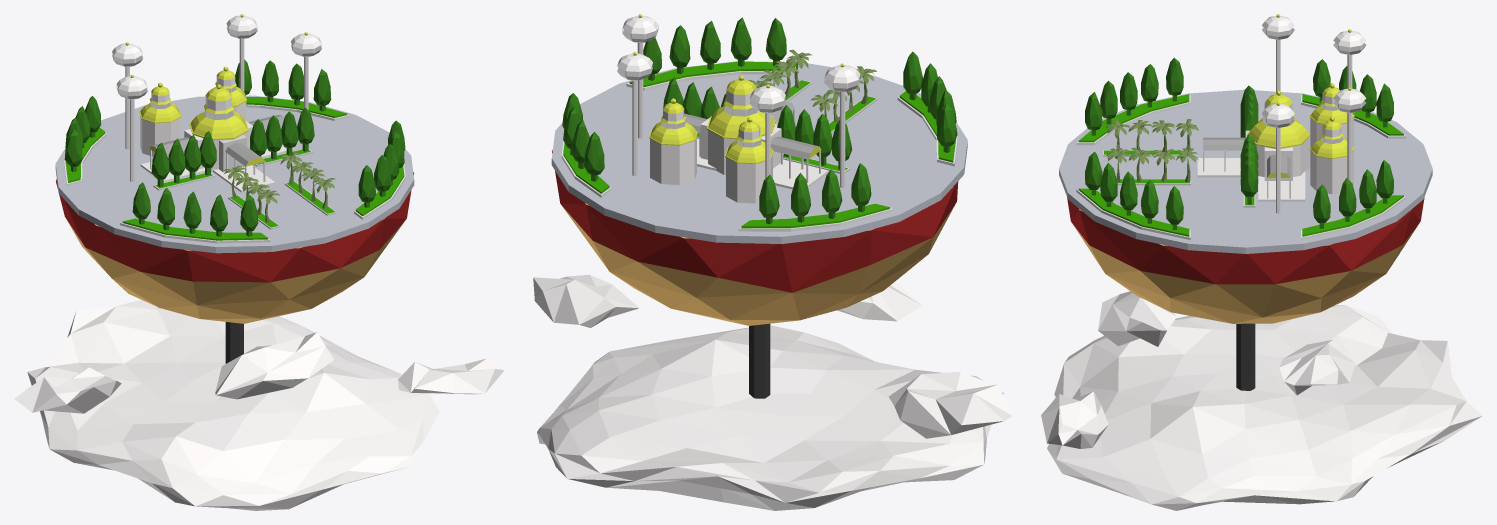
Rendered from kamisama_no_shinden.glb.
3 renders of one model, left to right at view 1: azimuth 30°, elevation 25°; view 2: azimuth 150°, elevation 25°; view 3: azimuth 270°, elevation 25°, orthographic. The views are drawn at different scales.
Parts seen in each view (by area): view 1: Icosphere.003, Icosphere.001, Icosphere, Cube.001, Icosphere.006, Icosphere.002, Icosphere.004, Icosphere.007, Sphere.004, Sphere.006, Plane.004, Plane.003 (+7 smaller); view 2: Icosphere.003, Icosphere.001, Icosphere, Cube.001, Icosphere.004, Icosphere.002, Icosphere.005, Sphere.005, Sphere.006, Sphere.004, Plane.004, Icosphere.006 (+10 smaller); view 3: Icosphere.003, Icosphere.001, Icosphere, Cube.001, Icosphere.002, Icosphere.006, Icosphere.007, Icosphere.005, Sphere.005, Plane.004, Sphere.004, Cube (+8 smaller).
Boxes of the visible parts, bbox=[...] form: Icosphere.003: bbox=[27, 299, 439, 510]; Icosphere.001: bbox=[55, 95, 414, 253]; Icosphere: bbox=[56, 172, 414, 323]; Cube.001: bbox=[64, 59, 405, 236]; Icosphere.006: bbox=[215, 332, 333, 399]; Icosphere.002: bbox=[64, 97, 405, 243]; Icosphere.004: bbox=[14, 367, 121, 413]; Icosphere.007: bbox=[398, 358, 504, 394]; Sphere.004: bbox=[189, 87, 248, 171]; Sphere.006: bbox=[139, 86, 181, 156]; Plane.004: bbox=[223, 152, 335, 222]; Plane.003: bbox=[153, 149, 336, 229]; Icosphere.003: bbox=[537, 325, 1003, 510]; Icosphere.001: bbox=[551, 61, 967, 243]; Icosphere: bbox=[552, 150, 958, 325]; Cube.001: bbox=[562, 17, 957, 224]; Icosphere.004: bbox=[889, 372, 1012, 438]; Icosphere.002: bbox=[561, 61, 957, 231]; Icosphere.005: bbox=[533, 274, 639, 327]; Sphere.005: bbox=[649, 102, 697, 184]; Sphere.006: bbox=[725, 121, 773, 203]; Sphere.004: bbox=[706, 79, 775, 175]; Plane.004: bbox=[749, 49, 876, 122]; Icosphere.006: bbox=[837, 281, 922, 321]; Icosphere.003: bbox=[1047, 305, 1482, 510]; Icosphere.001: bbox=[1059, 89, 1432, 253]; Icosphere: bbox=[1067, 197, 1424, 323]; Cube.001: bbox=[1085, 57, 1393, 229]; Icosphere.002: bbox=[1076, 94, 1406, 239]; Icosphere.006: bbox=[1098, 291, 1176, 346]; Icosphere.007: bbox=[1041, 391, 1108, 448]; Icosphere.005: bbox=[1279, 339, 1355, 395]; Sphere.005: bbox=[1309, 120, 1354, 194]; Plane.004: bbox=[1105, 119, 1198, 182]; Sphere.004: bbox=[1247, 94, 1310, 177]; Cube: bbox=[1197, 158, 1305, 201].
Bounding box in the file's own units: 2.59 × 2.31 × 2.4.
